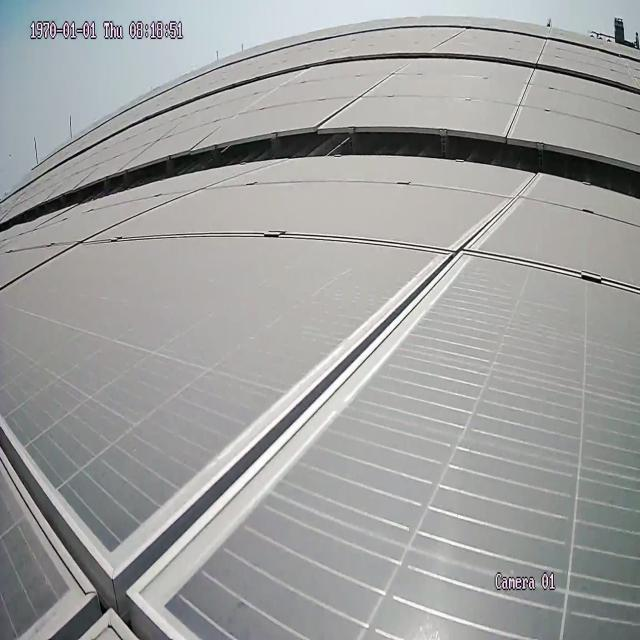interior panel: (0, 192, 521, 640), (326, 63, 413, 122), (507, 68, 538, 132)
outher panel: (0, 132, 638, 235)
